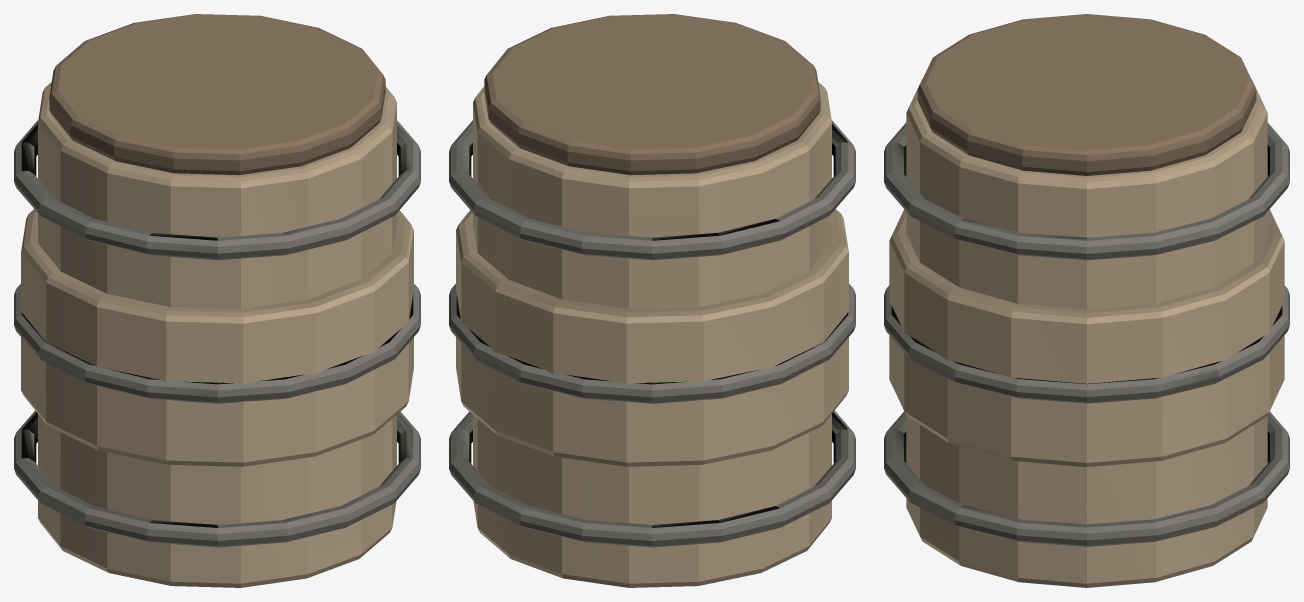
Rendered from barrel.glb.
The picture shows the model from 3 angles, left to right: view 1: azimuth 30°, elevation 25°; view 2: azimuth 150°, elevation 25°; view 3: azimuth 270°, elevation 25°; orthographic projection.
Visible parts, largest first — view 1: body; view 2: body; view 3: body.
Boxes of the visible parts, bbox=[...] form: body: bbox=[14, 14, 420, 587]; body: bbox=[449, 14, 855, 587]; body: bbox=[884, 14, 1289, 587].
Bounding box in the file's own units: 0.73 × 0.845 × 0.7189.
